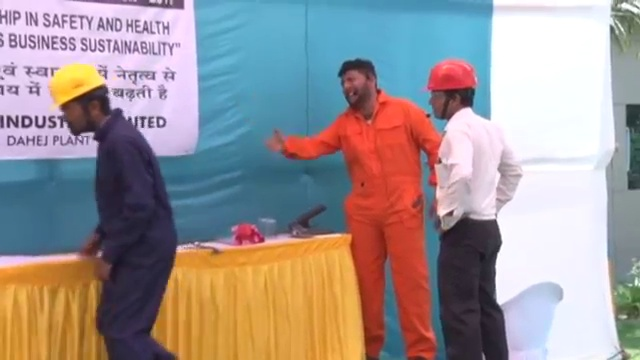helmet: (43, 63, 111, 113), (420, 59, 479, 94)
helmet_off: (337, 58, 381, 109)
helmet_on: (43, 62, 122, 138), (418, 59, 482, 122)
person: (271, 57, 439, 360), (42, 62, 178, 360), (419, 58, 523, 360)
